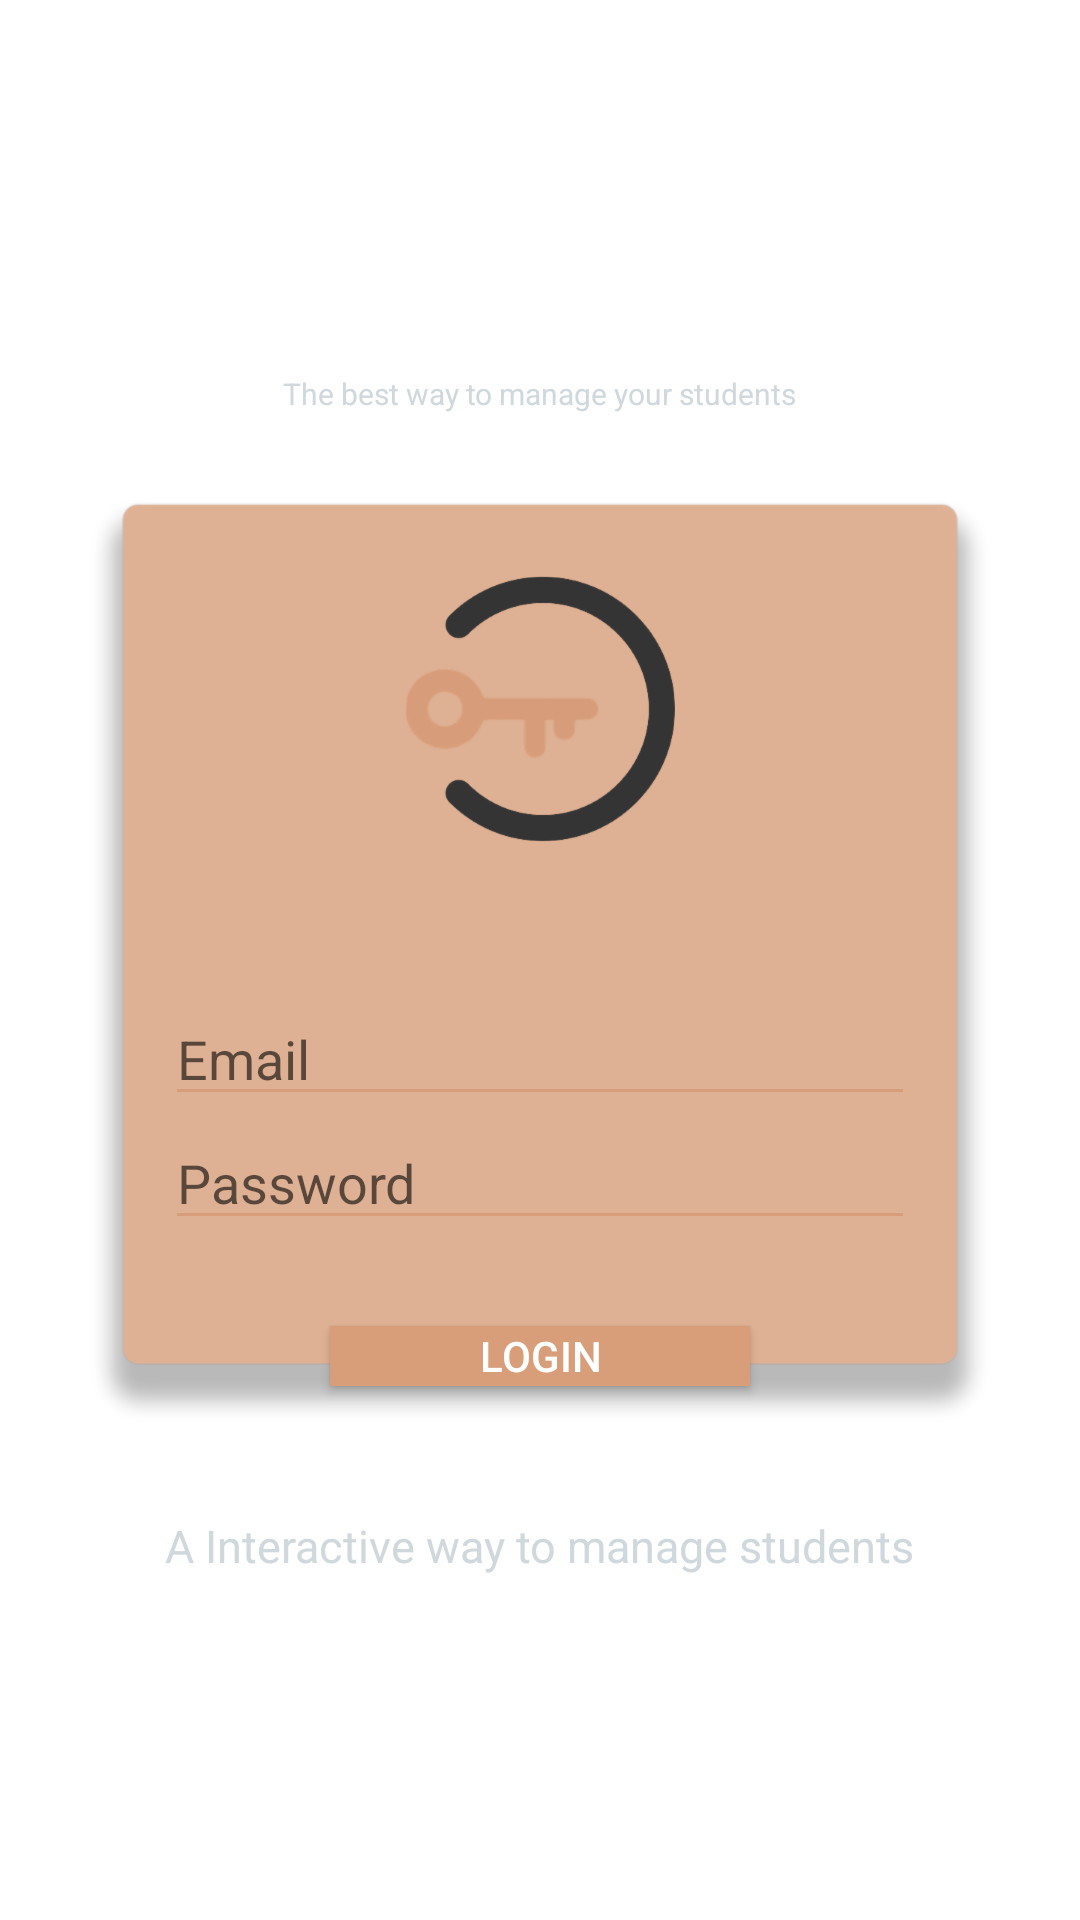

Named icons in this screenshot (1080px×1920px) and their bounding boxes, (x1, y1, x2, y2):
tlogin: (407, 577, 675, 841)
